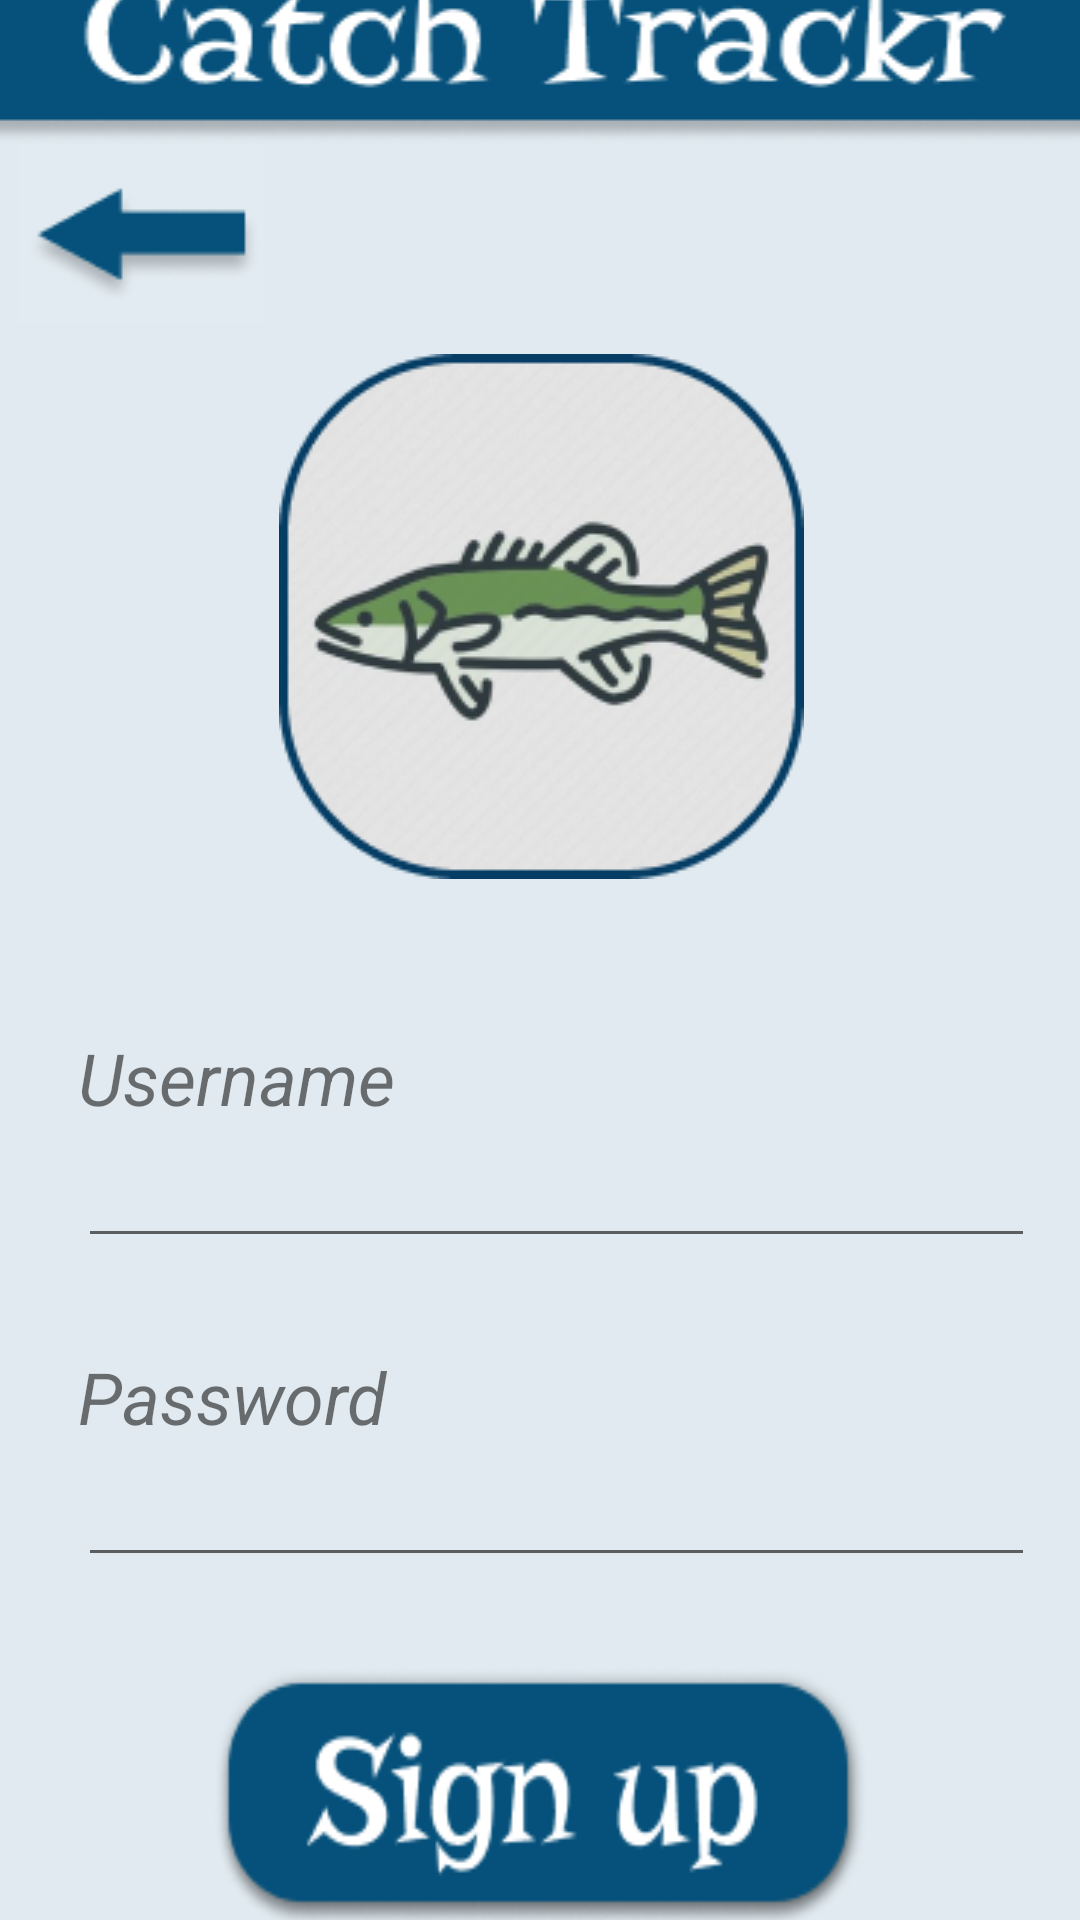

Screen size 1080*1920. Icon name, then its center in pixels as [x,y]:
backbuttonimage: [142,238]
